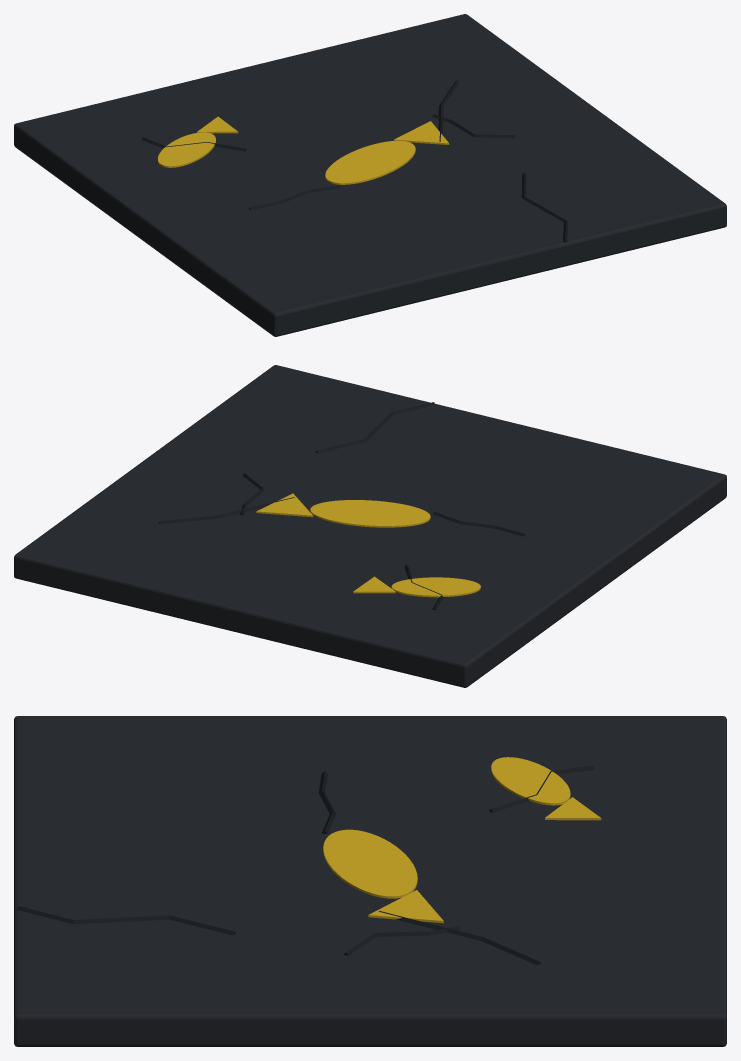
File: zc_road_tile.mobile-high.glb
The picture shows the model from 3 angles, top to bottom: view 1: azimuth 30°, elevation 25°; view 2: azimuth 150°, elevation 25°; view 3: azimuth 270°, elevation 25°; orthographic projection. The views are drawn at different scales.
Visible parts, largest first — view 1: zc_road_tile; view 2: zc_road_tile; view 3: zc_road_tile.
Part boxes in pixels (left/top/right/bottom): zc_road_tile: left=14, top=14, right=726, bottom=336; zc_road_tile: left=14, top=365, right=726, bottom=687; zc_road_tile: left=14, top=716, right=726, bottom=1046.
Size of the model in its own units: 2 by 0.109 by 2.
1 material, 1 textured.
